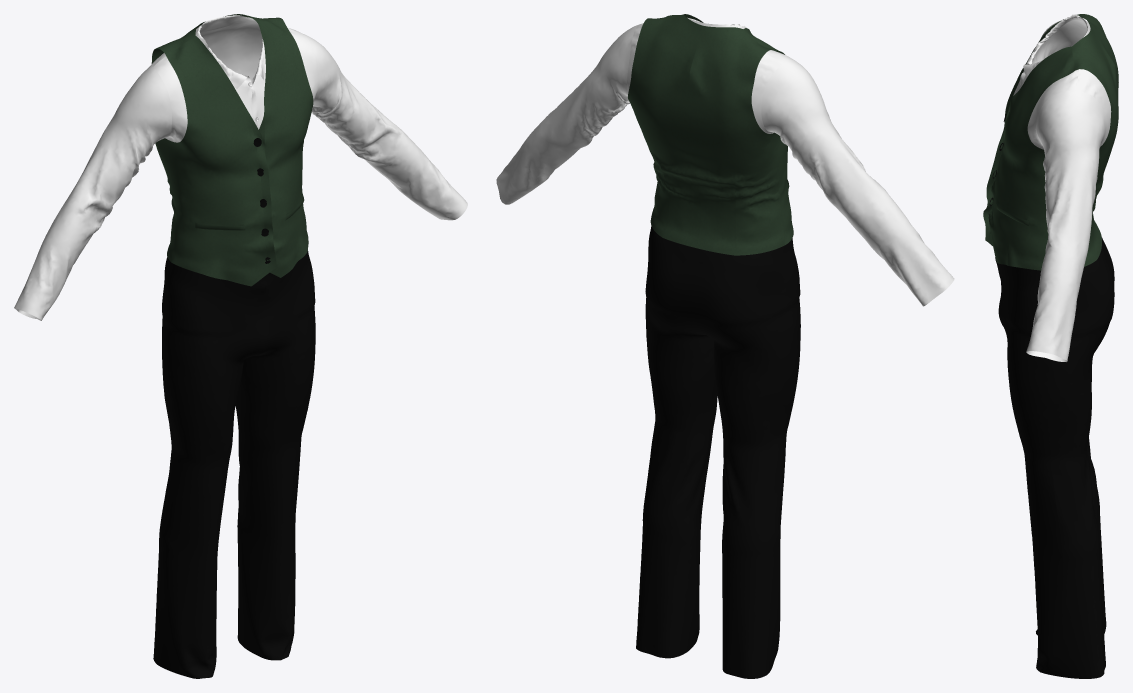
The model's file is elegant_clothing_set__waistcoat_shirt__pants.glb.
3 views of the same model, side by side, from view 1: azimuth 30°, elevation 25°; view 2: azimuth 150°, elevation 25°; view 3: azimuth 270°, elevation 25° (orthographic). The views are drawn at different scales.
Visible parts, largest first — view 1: Spodnie, Kamizelka.001, Koszula; view 2: Spodnie, Kamizelka.001, Koszula; view 3: Spodnie, Koszula, Kamizelka.001.
Part boxes in pixels (x1,y1,x2,y2): Spodnie: [153, 251, 315, 678]; Kamizelka.001: [151, 14, 313, 286]; Koszula: [14, 15, 467, 320]; Spodnie: [636, 226, 800, 678]; Kamizelka.001: [628, 14, 793, 255]; Koszula: [496, 17, 954, 306]; Spodnie: [995, 237, 1114, 678]; Koszula: [1013, 14, 1111, 361]; Kamizelka.001: [983, 14, 1118, 270].
Size of the model in its own units: 1.15 by 1.57 by 0.308.
Materials: 7 (1 with a texture image).
